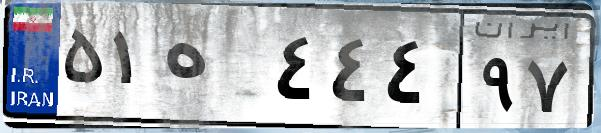1: (110, 28, 158, 98)
4: (270, 28, 330, 110), (385, 28, 445, 110), (330, 28, 385, 110)
5: (57, 26, 110, 100)
7: (525, 38, 570, 115)
9: (475, 38, 525, 113)
ه: (158, 20, 270, 120)
